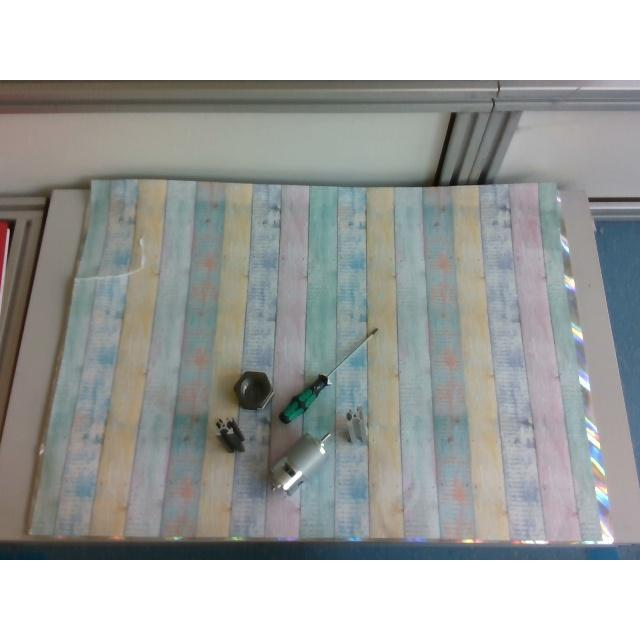F20_20_B: (216, 418, 244, 452)
F20_20_G: (344, 408, 368, 444)
M30: (234, 371, 274, 409)
Motor2: (270, 432, 330, 492)
Screwdriver: (279, 328, 377, 424)
